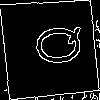Q: (24, 23, 86, 67)
